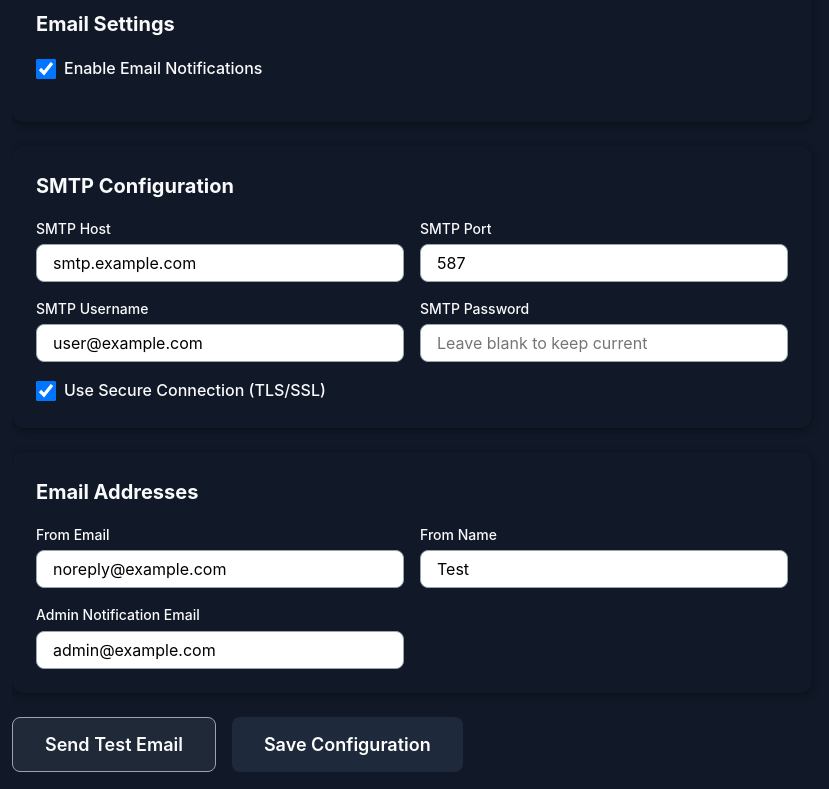
Test: EmailConfigForm › should display success message on successful save
The width and height of the screenshot is (829, 789).
Click the button "Save Configuration": (347, 744) [232,717,463,772]
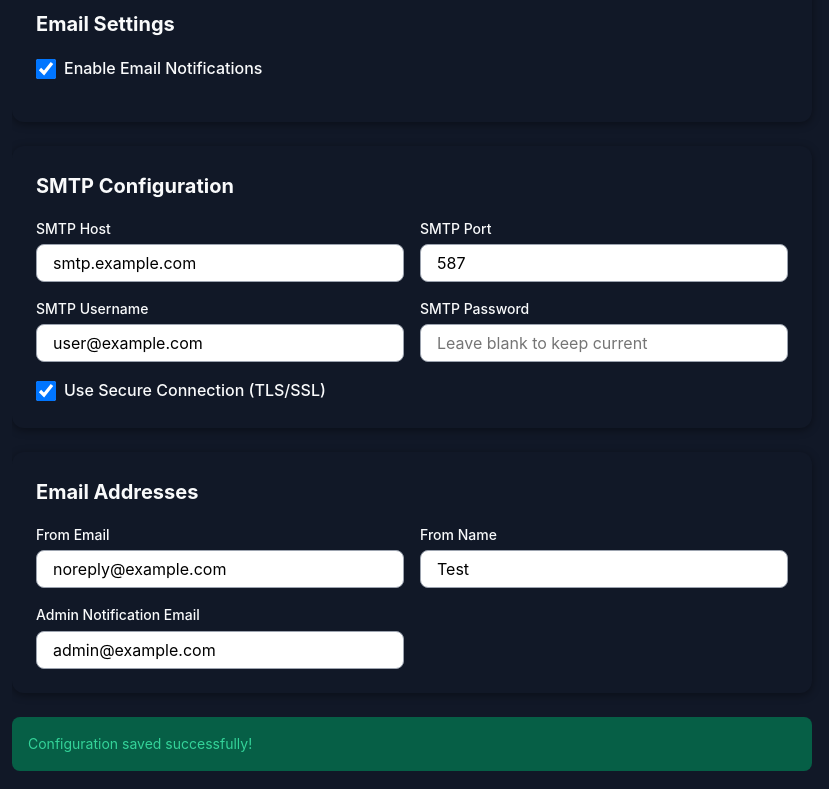
Check: the text "Configuration saved successfully!" is shown, box [12,717,812,771]
